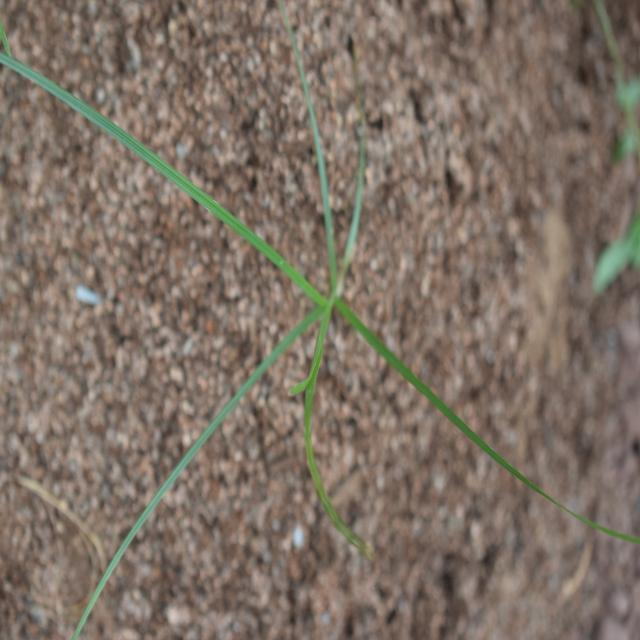sedge: (26, 120, 531, 600)
